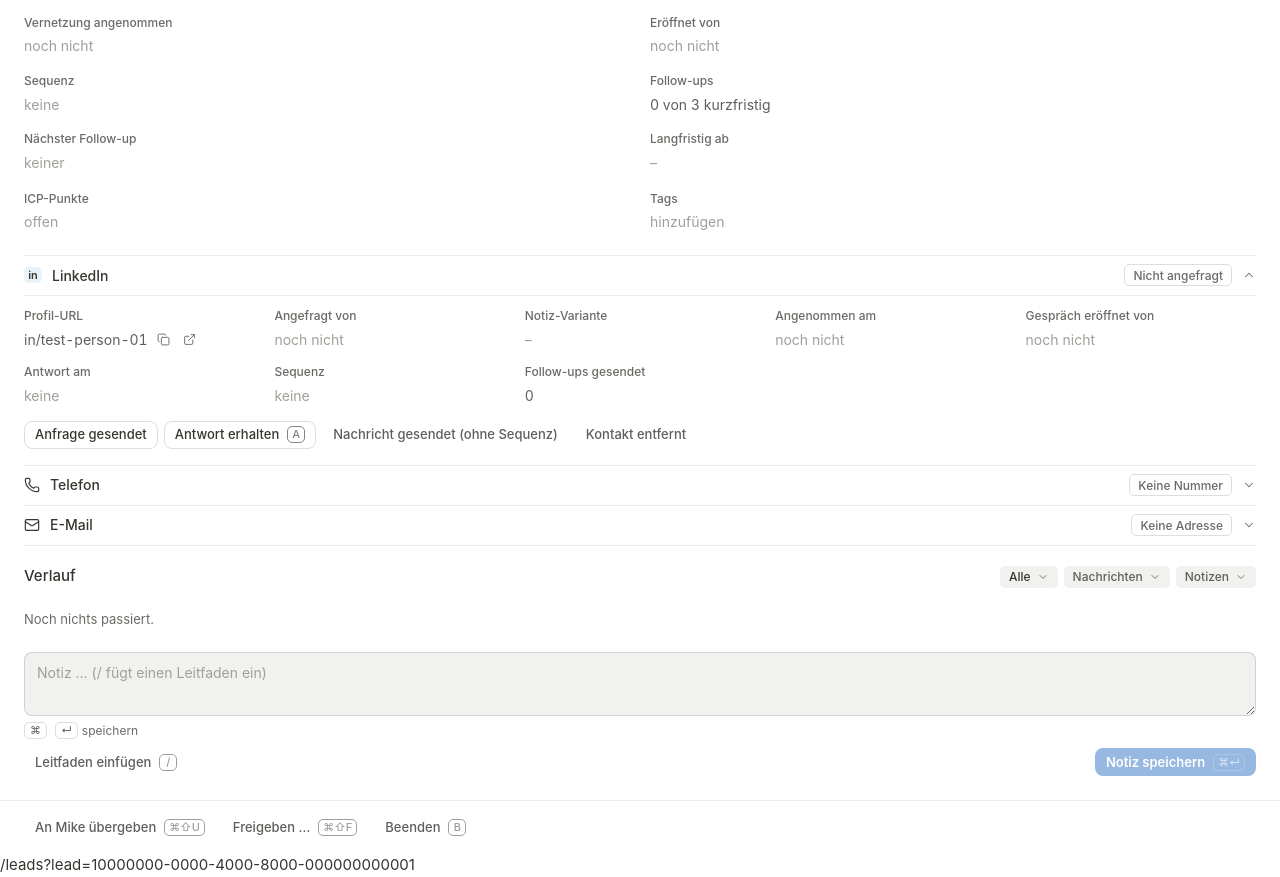
Test case: LeadPanel › Übergeben ohne Notiz ist nicht möglich (LD-09)
The width and height of the screenshot is (1280, 877).
(page scrolled)
Click the button "An Mike übergeben ⌘⇧U" at (120, 827), box [24,813,216,841]
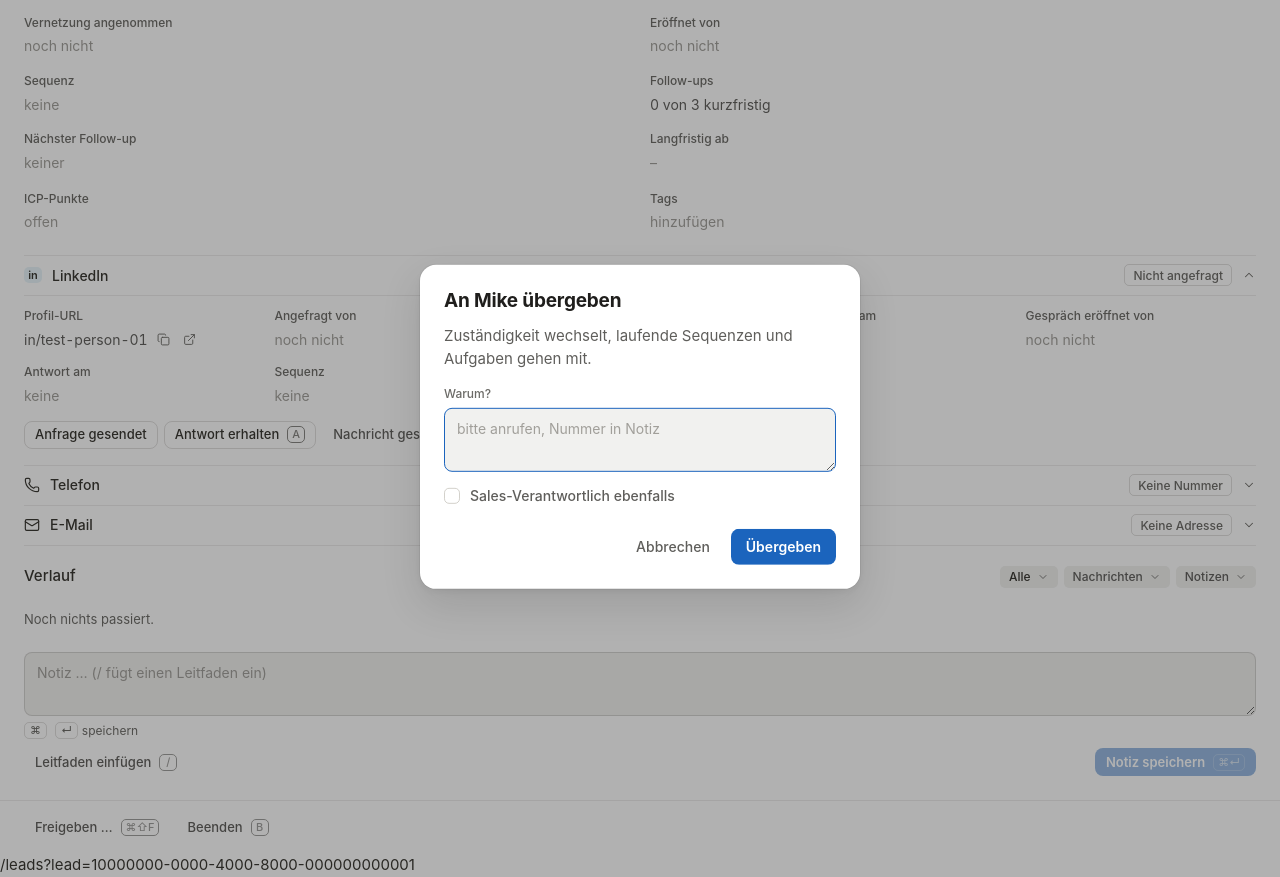
Click the button "Übergeben" at (783, 547), box [731,529,836,565]
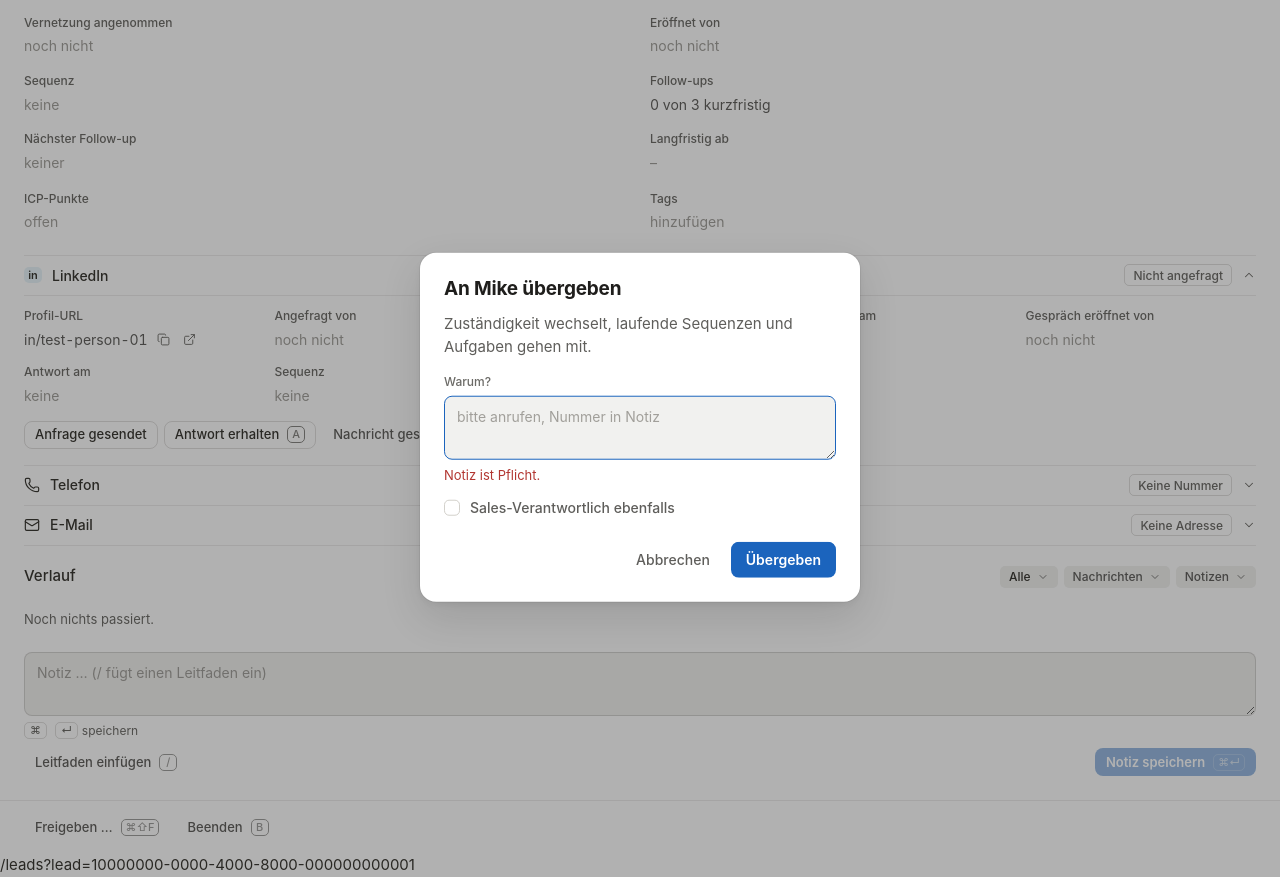
Expected: the text "Notiz ist Pflicht." is shown, [444,466,540,482]
